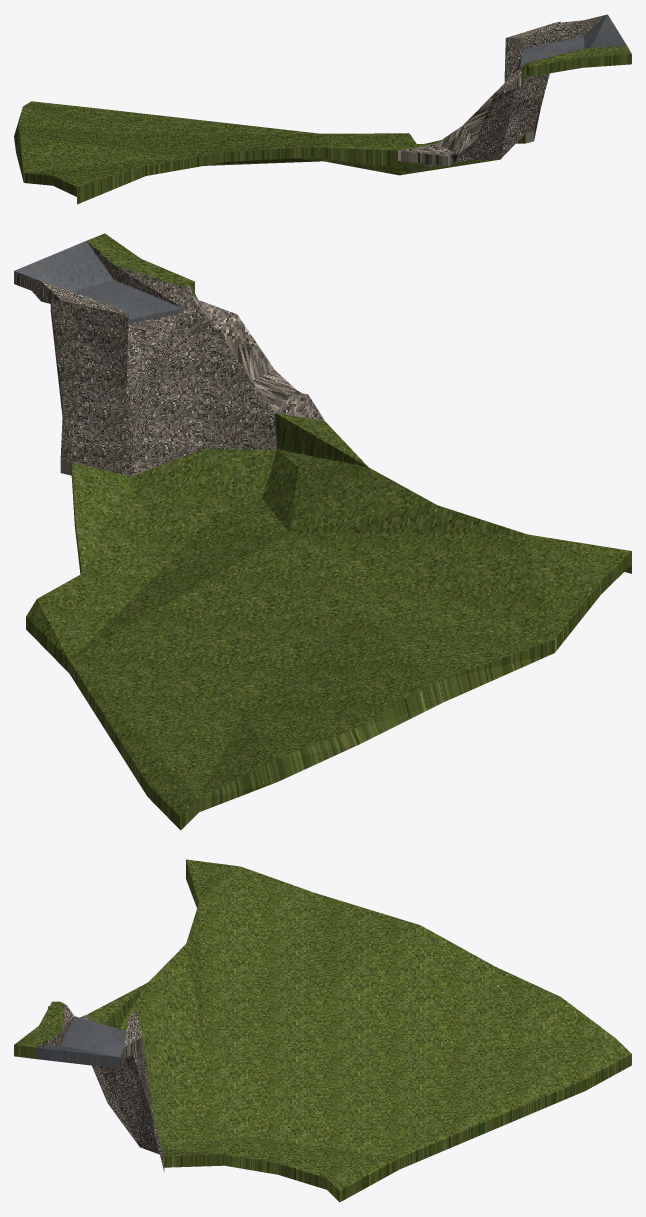
File: lod_land_21_sfw.obj
The picture shows the model from 3 angles, top to bottom: view 1: azimuth 30°, elevation 25°; view 2: azimuth 150°, elevation 25°; view 3: azimuth 270°, elevation 25°; orthographic projection. The views are drawn at different scales.
Parts seen in each view (by area): view 1: lod_land_21_sfw; view 2: lod_land_21_sfw; view 3: lod_land_21_sfw.
Part boxes in pixels (bbox=[...]): lod_land_21_sfw: bbox=[14, 14, 631, 204]; lod_land_21_sfw: bbox=[14, 233, 631, 830]; lod_land_21_sfw: bbox=[14, 859, 631, 1202].
Size of the model in its own units: 151 by 51.27 by 141.
3 materials, 3 textured.
